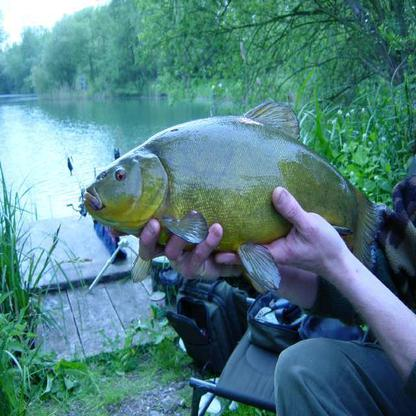fish: (82, 97, 375, 296)
